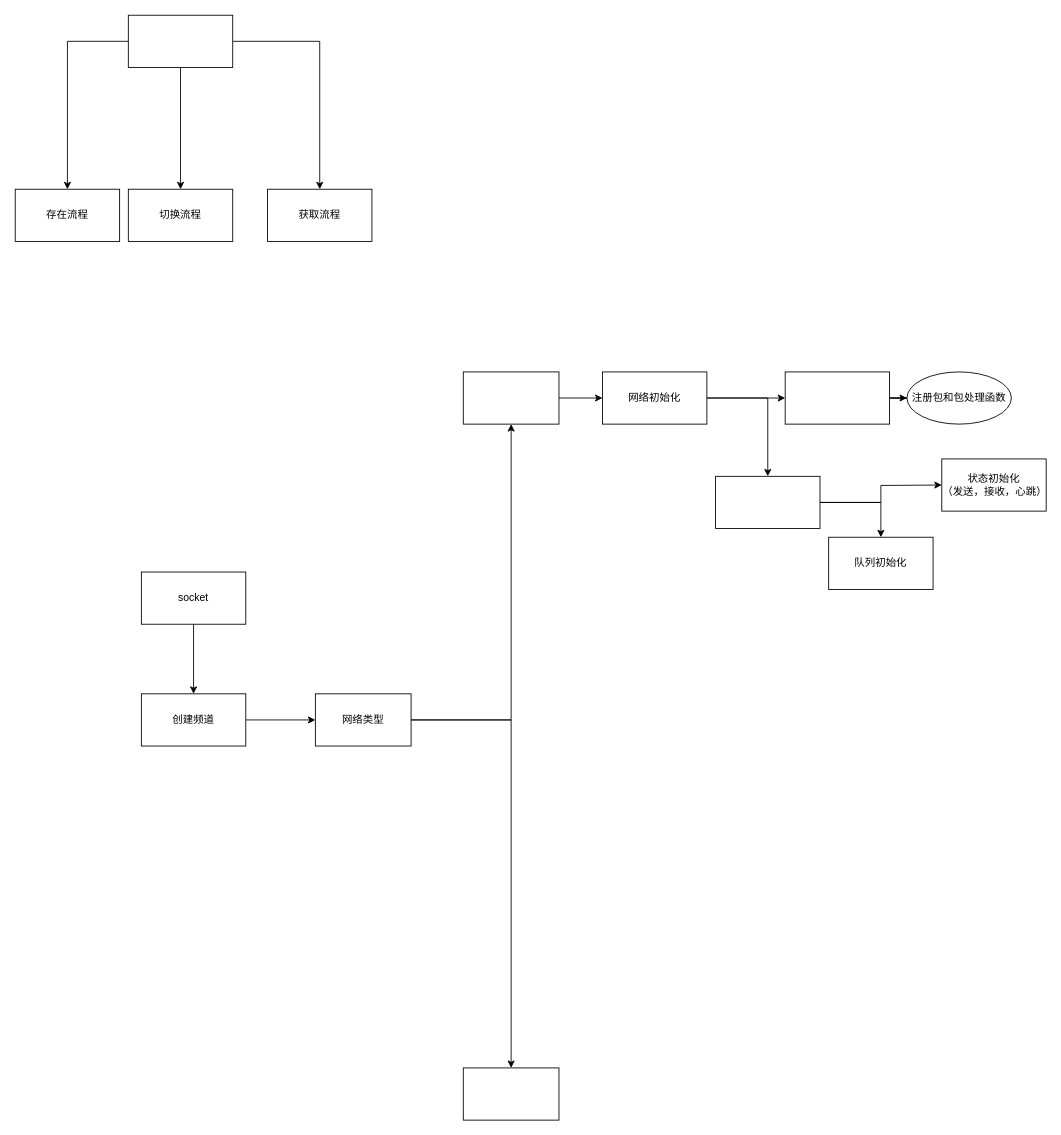
Image size: 1061x1135. Some labels were removed from this diagram. The shapes that lost their labels are listed below. From the top down, each one's centre as x and y in pixels, then its label:
At (x=180, y=40): "流程管理器".
At (x=510, y=397): "TCP".
At (x=837, y=397): "helpler初始化".
At (x=767, y=502): "socket初始化".
At (x=510, y=1093): "TCP 同步".
